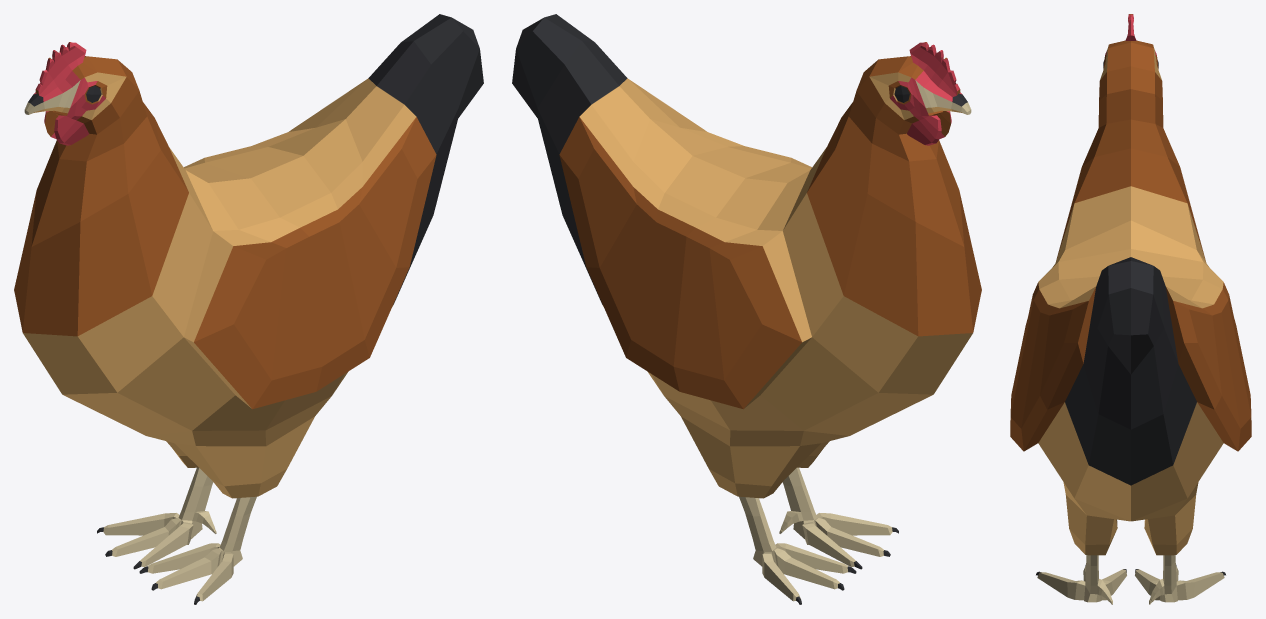
Rendered from hen.glb.
The picture shows the model from 3 angles, left to right: view 1: azimuth 30°, elevation 25°; view 2: azimuth 150°, elevation 25°; view 3: azimuth 270°, elevation 25°; orthographic projection. The views are drawn at different scales.
Parts seen in each view (by area): view 1: Cube_0; view 2: Cube_0; view 3: Cube_0.
Boxes of the visible parts, bbox=[...] form: Cube_0: bbox=[14, 14, 483, 604]; Cube_0: bbox=[512, 14, 981, 604]; Cube_0: bbox=[1010, 14, 1251, 604].
Bounding box in the file's own units: 3.9 × 4.48 × 1.87.
